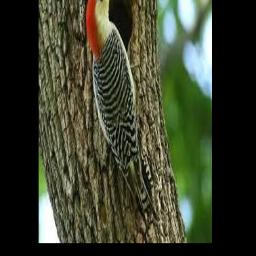Woodpecker: (86, 0, 160, 235)
